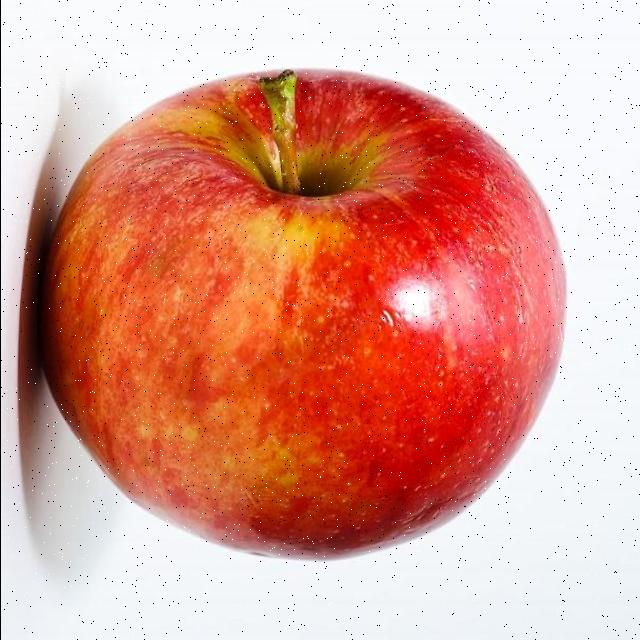HEALTHY: (32, 27, 594, 569)
